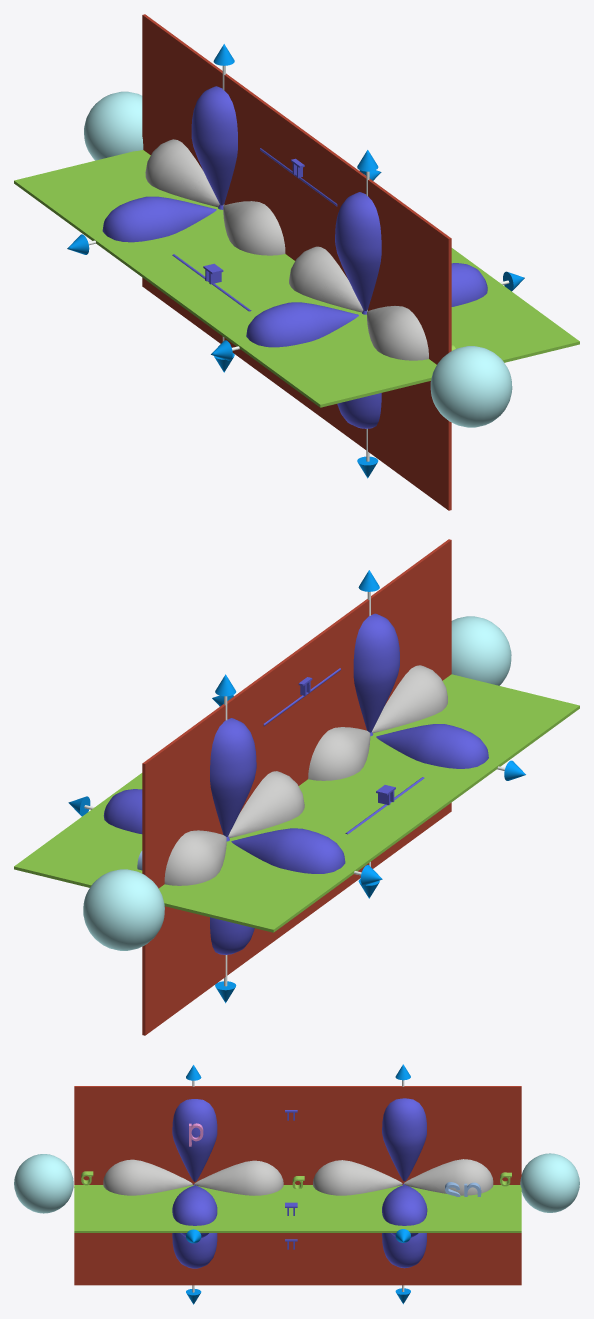
The model's file is ethyne.glb.
3 views of the same model, one above another, from view 1: azimuth 30°, elevation 25°; view 2: azimuth 150°, elevation 25°; view 3: azimuth 270°, elevation 25° (orthographic). The views are drawn at different scales.
Parts seen in each view (by area): view 1: TRANSPARENT_PARTS_2, TRANSPARENT_PARTS_1, INITIAL_TRANSPARENT_2, Circle09-FACES001, Circle19-FACES001, Circle20-FACES001, Circle06-FACES001, INITIAL_TRANSPARENT_1, Circle26-FACES001, Circle03-FACES001, Circle01-FACES001, Circle25-FACES001 (+2 smaller); view 2: TRANSPARENT_PARTS_2, TRANSPARENT_PARTS_1, INITIAL_TRANSPARENT_1, Circle09-FACES001, Circle19-FACES001, Circle20-FACES001, INITIAL_TRANSPARENT_2, Circle06-FACES001, Circle01-FACES001, Circle25-FACES001, Circle26-FACES001, Circle03-FACES001 (+2 smaller); view 3: TRANSPARENT_PARTS_2, TRANSPARENT_PARTS_1, INITIAL_TRANSPARENT_1, INITIAL_TRANSPARENT_2, Circle19-FACES001, Circle09-FACES001, Circle01-FACES001, Circle25-FACES001, Circle03-FACES001, Circle26-FACES001, Circle27-FACES001, Circle18-FACES001 (+3 smaller).
Part boxes in pixels (x1,y1,x2,y2): TRANSPARENT_PARTS_2: [142, 14, 451, 510]; TRANSPARENT_PARTS_1: [14, 150, 579, 407]; INITIAL_TRANSPARENT_2: [430, 346, 512, 427]; Circle09-FACES001: [335, 192, 381, 310]; Circle19-FACES001: [191, 86, 237, 205]; Circle20-FACES001: [102, 196, 216, 242]; Circle06-FACES001: [246, 302, 358, 347]; INITIAL_TRANSPARENT_1: [84, 91, 143, 160]; Circle26-FACES001: [145, 139, 219, 207]; Circle03-FACES001: [289, 246, 363, 312]; Circle01-FACES001: [366, 306, 428, 360]; Circle25-FACES001: [223, 201, 285, 255]; TRANSPARENT_PARTS_2: [142, 539, 451, 1035]; TRANSPARENT_PARTS_1: [14, 674, 579, 932]; INITIAL_TRANSPARENT_1: [83, 869, 164, 950]; Circle09-FACES001: [353, 613, 399, 732]; Circle19-FACES001: [210, 718, 256, 836]; Circle20-FACES001: [231, 828, 345, 873]; INITIAL_TRANSPARENT_2: [451, 616, 511, 685]; Circle06-FACES001: [376, 724, 488, 768]; Circle01-FACES001: [372, 665, 447, 733]; Circle25-FACES001: [228, 771, 304, 837]; Circle26-FACES001: [164, 830, 226, 885]; Circle03-FACES001: [308, 727, 370, 780]; TRANSPARENT_PARTS_2: [74, 1086, 521, 1285]; TRANSPARENT_PARTS_1: [74, 1185, 521, 1232]; INITIAL_TRANSPARENT_1: [520, 1153, 579, 1212]; INITIAL_TRANSPARENT_2: [14, 1154, 73, 1213]; Circle19-FACES001: [382, 1098, 426, 1181]; Circle09-FACES001: [172, 1099, 217, 1181]; Circle01-FACES001: [103, 1159, 192, 1195]; Circle25-FACES001: [313, 1160, 402, 1195]; Circle03-FACES001: [194, 1160, 283, 1195]; Circle26-FACES001: [404, 1159, 493, 1195]; Circle27-FACES001: [382, 1184, 427, 1237]; Circle18-FACES001: [172, 1185, 217, 1238].
Bounding box in the file's own units: 5.77 × 5.78 × 12.31.
